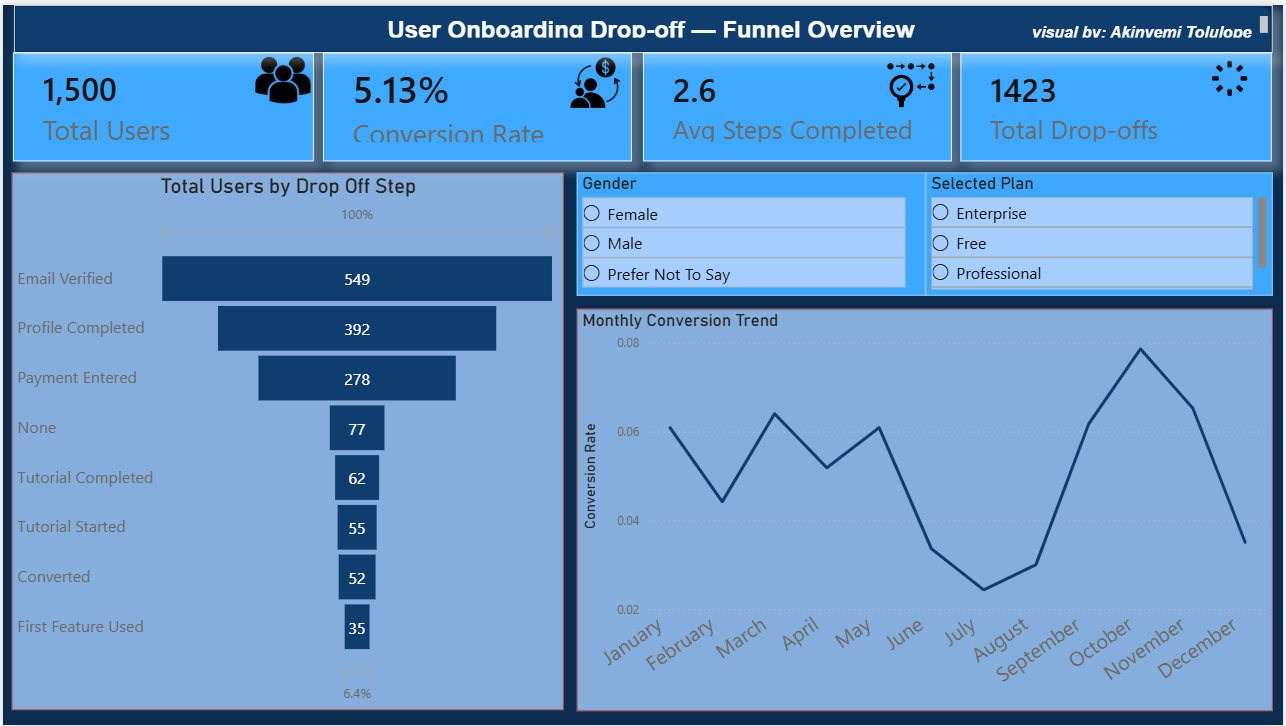

The page's visual inventory and layout, read from the dashboard file:
{"tool":"powerbi","page":{"name":"Funnel Overview","canvas":[1280,720],"ordinal":0},"visuals":[{"type":"cardVisual","title":"Total User","fields":{"Data":["Raw Data.Total Users"]},"box":[9.6,48,300.5,108.4],"z":0},{"type":"cardVisual","title":"Total User","fields":{"Data":["Raw Data.Conversion Rate %"]},"box":[319.7,48,308.7,108.4],"z":1000},{"type":"cardVisual","title":"Total User","fields":{"Data":["Raw Data.Avg Steps Completed"]},"box":[639.5,48,308.7,108.4],"z":2000},{"type":"cardVisual","title":"Total User","fields":{"Data":["Raw Data.Drop-off Count"]},"box":[957.8,48,311.5,108.4],"z":3000},{"type":"funnel","fields":{"Category":["Raw Data.Drop Off Step"],"Y":["Raw Data.Total Users"]},"box":[8.2,167.4,551.6,537.9],"z":4000},{"type":"lineChart","title":"Monthly Conversion Trend","fields":{"Category":["Raw Data.Signup Date.Variation.Date Hierarchy.Month"],"Y":["Raw Data.Conversion Rate"]},"box":[573.6,303.3,695.7,402.1],"z":5000},{"type":"image","box":[249.7,48,60.4,54.9],"z":6000},{"type":"image","box":[554.4,52.1,74.1,50.8],"z":7000},{"type":"image","box":[867.2,54.9,81,50.8],"z":8000},{"type":"image","box":[1185.6,54.9,83.7,37],"z":9000},{"type":"listSlicer","fields":{"Values":["Raw Data.Gender"]},"box":[573.6,167.4,348.5,123.5],"z":10000},{"type":"listSlicer","fields":{"Values":["Raw Data.Selected Plan"]},"box":[922.1,167.4,347.2,123.5],"z":11000},{"type":"shape","box":[11,0,1258.3,48],"z":12000},{"type":"textbox","box":[11,6.9,1258.3,31.6],"z":13000}]}

Visuals, with their boxes in screenshot pixels (x1, y1, x2, y2), scaled from the page's 1280x720 canvas onto the 1286x726 screenshot:
"Total User" cardVisual: box(10, 48, 312, 158)
"Total User" cardVisual: box(321, 48, 631, 158)
"Total User" cardVisual: box(642, 48, 953, 158)
"Total User" cardVisual: box(962, 48, 1275, 158)
funnel - Raw Data.Drop Off Step x Raw Data.Total Users: box(8, 169, 562, 711)
"Monthly Conversion Trend" lineChart: box(576, 306, 1275, 711)
image: box(251, 48, 312, 104)
image: box(557, 53, 631, 104)
image: box(871, 55, 953, 107)
image: box(1191, 55, 1275, 93)
listSlicer - Raw Data.Gender: box(576, 169, 926, 293)
listSlicer - Raw Data.Selected Plan: box(926, 169, 1275, 293)
shape: box(11, 0, 1275, 48)
textbox: box(11, 7, 1275, 39)
